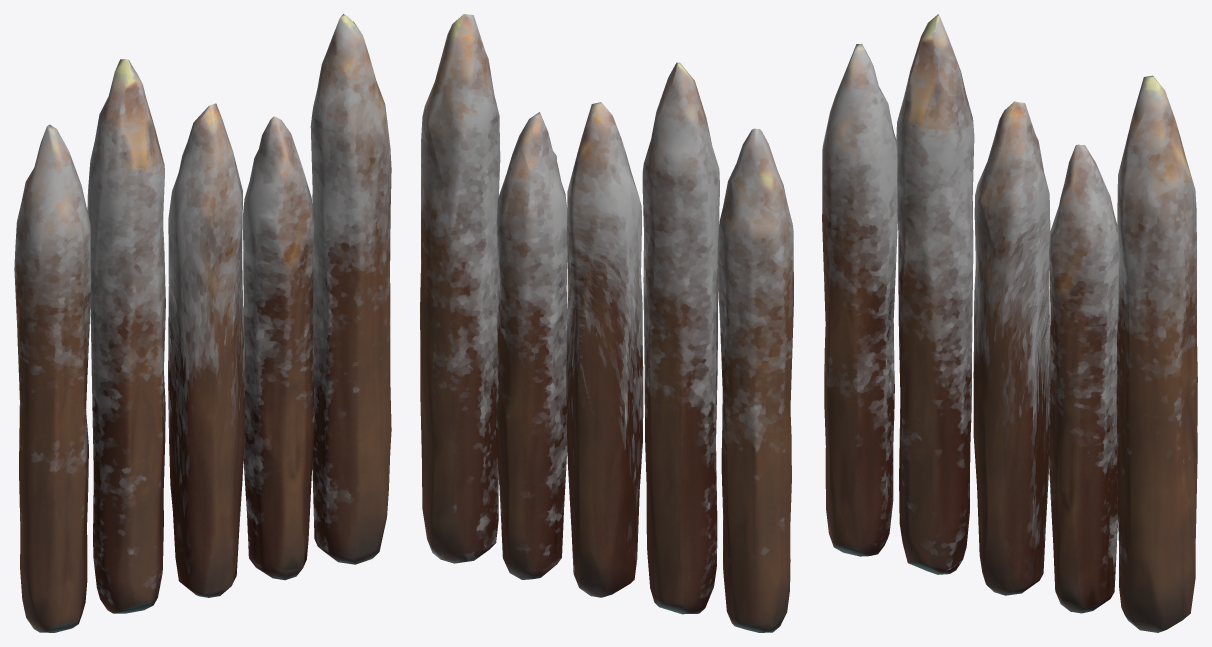
File: fenceA.glb
3 renders of one model, left to right at view 1: azimuth 30°, elevation 25°; view 2: azimuth 150°, elevation 25°; view 3: azimuth 330°, elevation 25°, orthographic.
Visible parts, largest first — view 1: fenceA; view 2: fenceA; view 3: fenceA.
Boxes of the visible parts, x1,y1,x2,y2 form: fenceA: (14,14,391,632); fenceA: (420,14,793,632); fenceA: (822,14,1197,632).
Bounding box in the file's own units: 7.71 × 11.17 × 1.46.
Materials: 1 (1 with a texture image).
